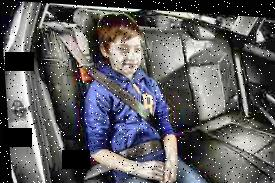seatbelt: (54, 24, 164, 162)
